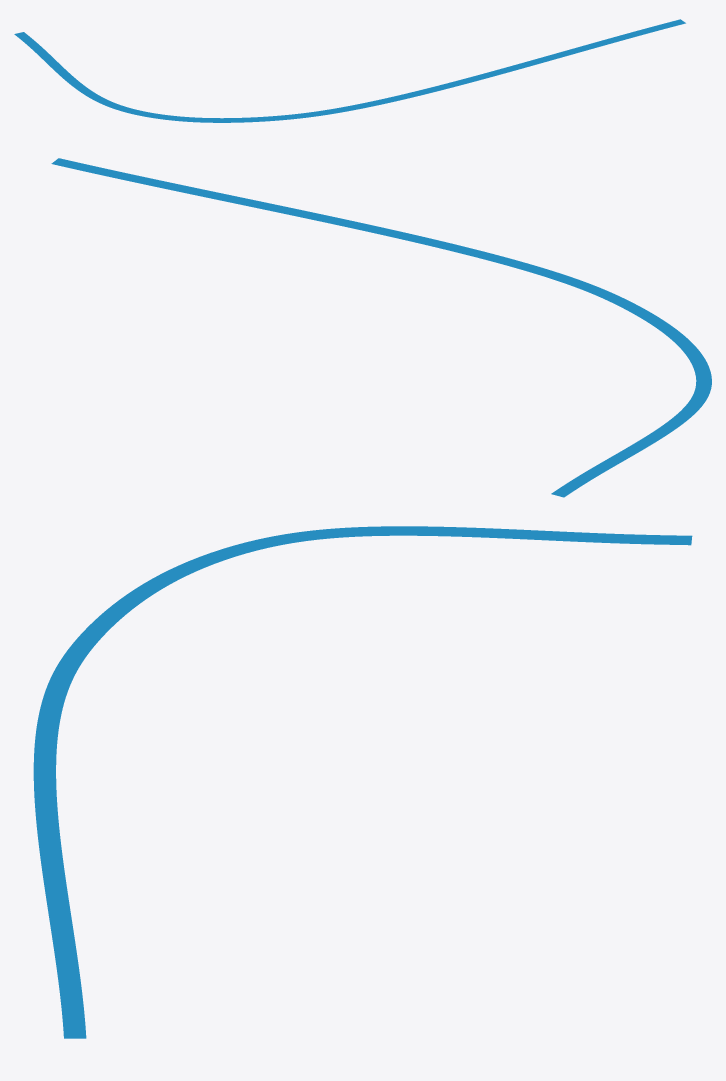
Rendered from guide.glb.
3 renders of one model, top to bottom at view 1: azimuth 30°, elevation 25°; view 2: azimuth 150°, elevation 25°; view 3: azimuth 270°, elevation 25°, orthographic. The views are drawn at different scales.
Parts seen in each view (by area): view 1: static; view 2: static; view 3: static.
Boxes of the visible parts, left/top/right/bottom form: static: left=14, top=19, right=685, bottom=122; static: left=51, top=158, right=711, bottom=497; static: left=33, top=526, right=692, bottom=1038.
Size of the model in its own units: 18.28 by 0 by 9.41.
